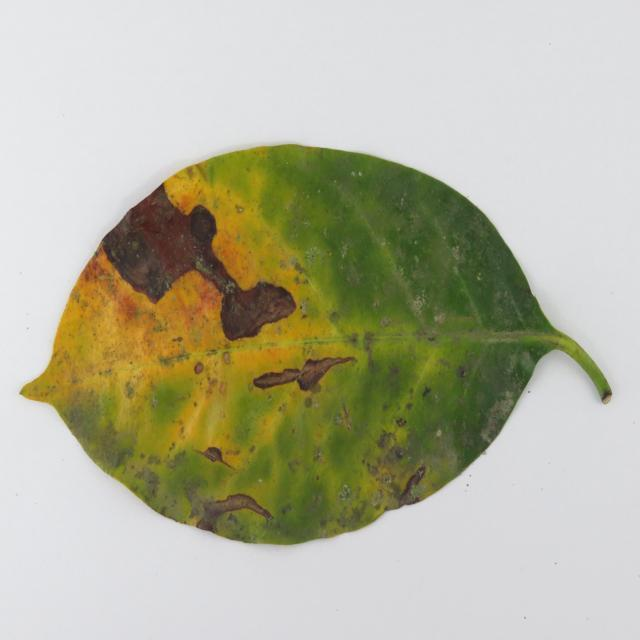DeficienciaNutricional-Fosforo: (22, 145, 611, 543)
